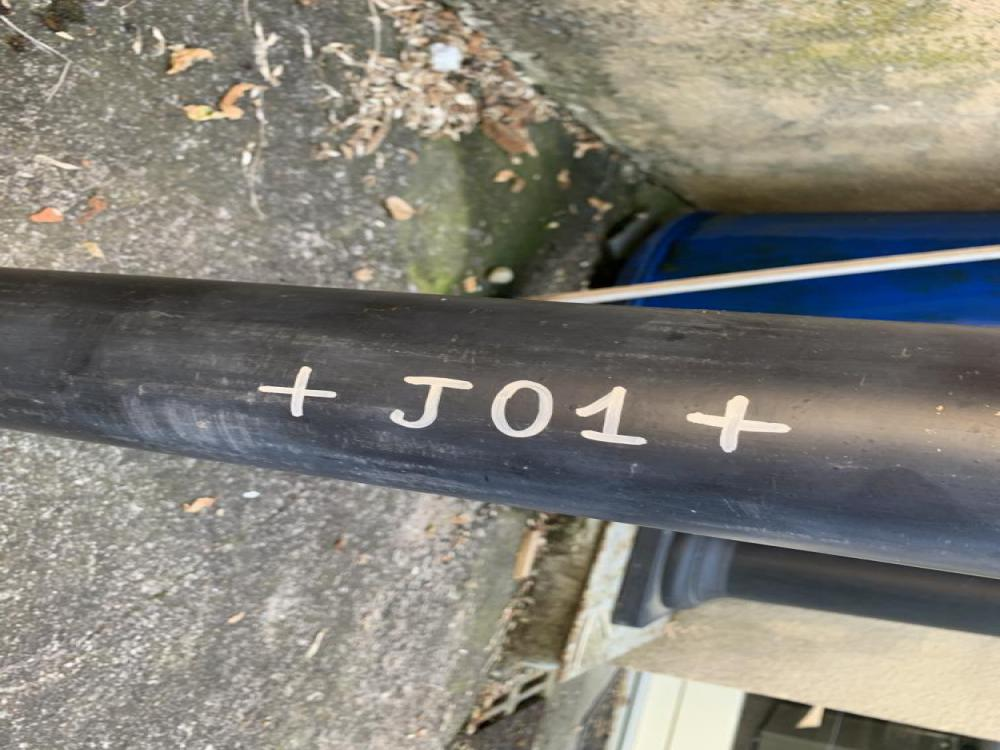+: (531, 156, 602, 234), (489, 500, 558, 554)
0: (504, 335, 585, 381)
1: (517, 263, 598, 323)
J: (500, 392, 572, 464)
